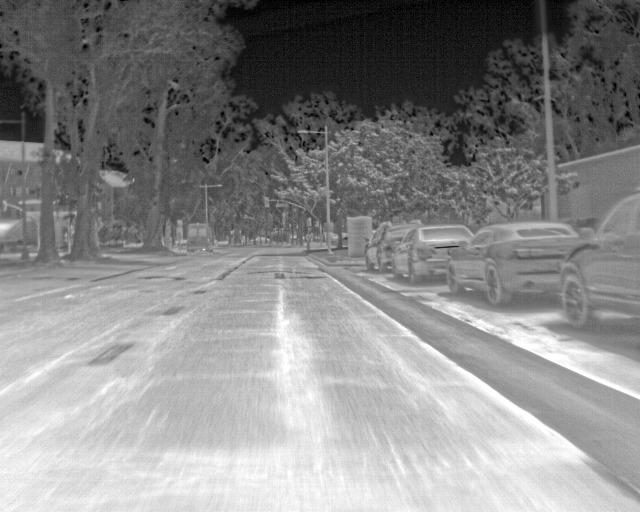car: (447, 221, 584, 308), (560, 192, 639, 327), (392, 224, 475, 284), (364, 220, 422, 272), (186, 223, 214, 256), (331, 233, 348, 246), (250, 237, 270, 244)
light: (1, 199, 6, 212), (307, 218, 311, 226), (265, 197, 268, 207)
sign: (11, 187, 29, 196), (324, 223, 333, 232), (276, 204, 289, 207), (314, 220, 319, 227)
